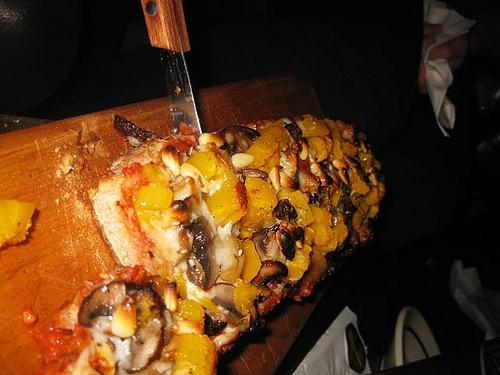mushroom: (78, 279, 163, 374), (212, 282, 258, 332), (186, 218, 212, 290), (250, 260, 289, 304), (324, 230, 360, 275), (218, 125, 262, 157), (114, 114, 162, 142), (275, 219, 304, 262), (161, 139, 190, 176), (252, 224, 280, 261), (344, 156, 370, 183), (187, 252, 206, 288), (266, 230, 286, 264), (273, 198, 298, 223), (171, 176, 197, 200), (204, 312, 228, 336), (335, 200, 358, 225), (316, 186, 336, 213), (308, 136, 328, 162), (162, 282, 177, 313), (350, 191, 369, 215), (241, 168, 269, 182), (329, 181, 344, 207), (318, 160, 334, 184), (340, 138, 358, 158), (356, 223, 370, 242), (338, 166, 350, 188), (285, 123, 302, 138), (352, 210, 364, 231), (332, 166, 344, 186), (254, 315, 266, 331), (353, 133, 366, 146), (374, 168, 380, 182), (290, 217, 298, 226), (366, 144, 372, 153)
